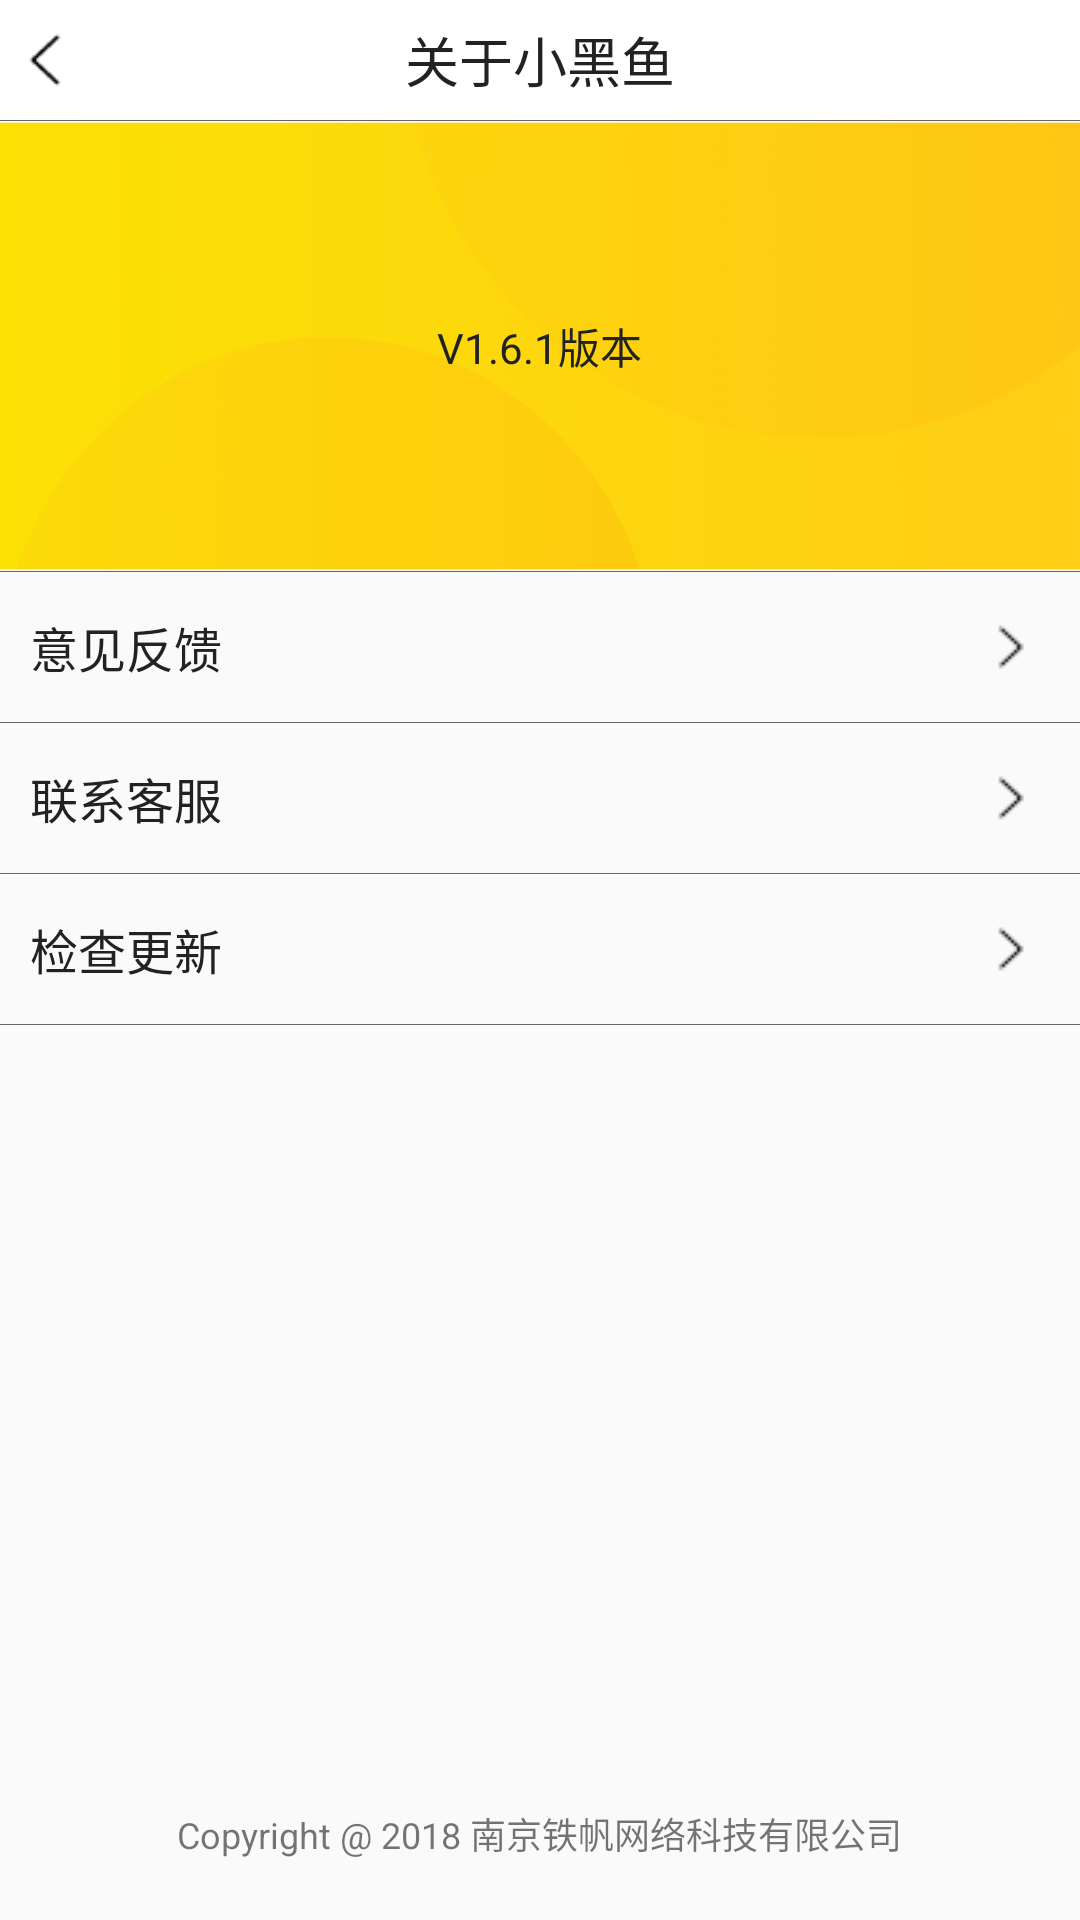

Locate icon controls on the screen. Image size 1080x1920, boxes as (x1, y1, x2, y2).
to left: (30, 34, 61, 86)
